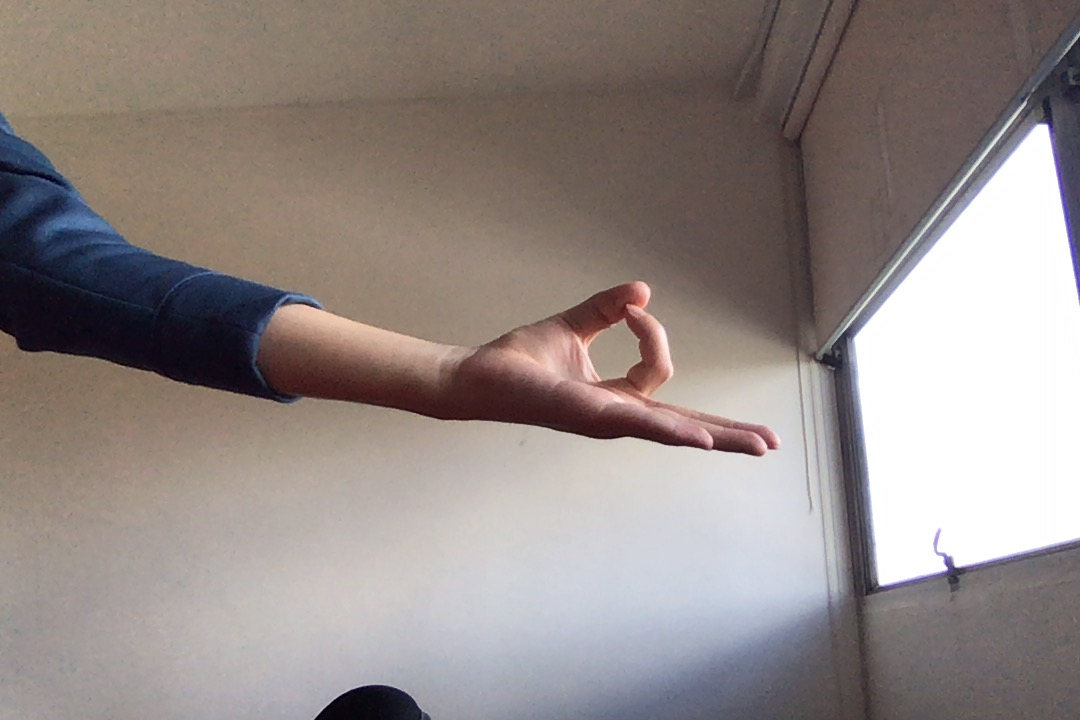oksign: (451, 274, 788, 472)
